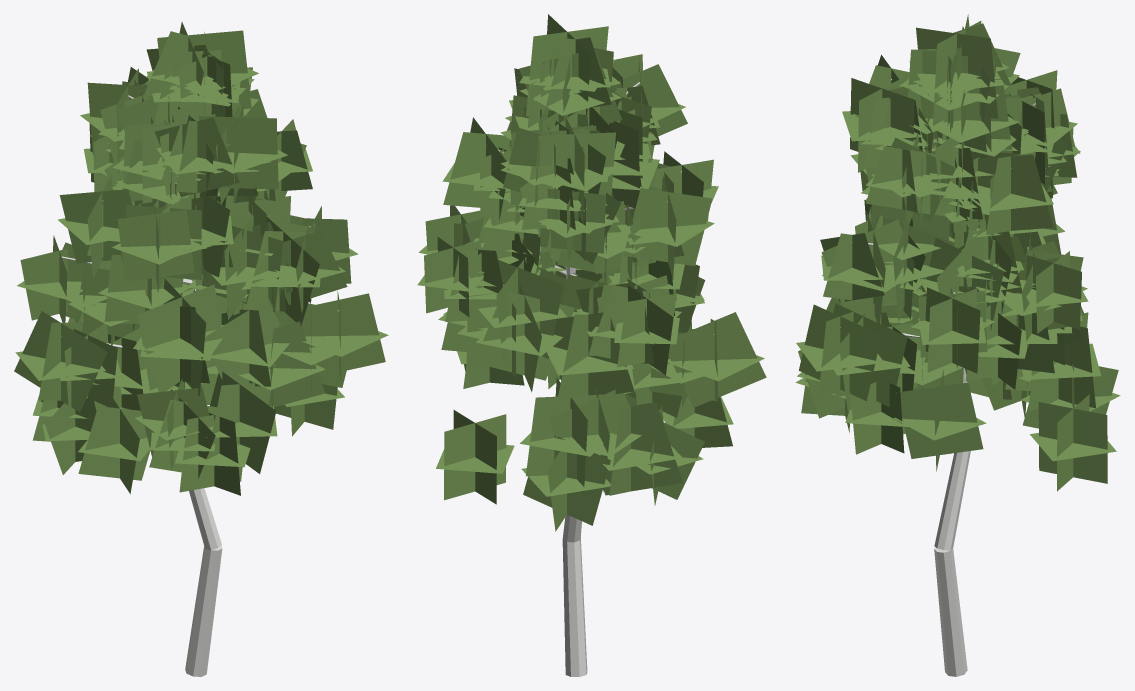
File: SM_Tree_Birch.fbx
3 views of the same model, side by side, from view 1: azimuth 30°, elevation 25°; view 2: azimuth 150°, elevation 25°; view 3: azimuth 270°, elevation 25° (orthographic).
Parts seen in each view (by area): view 1: SM_Tree_Birch; view 2: SM_Tree_Birch; view 3: SM_Tree_Birch.
Part boxes in pixels (x1,y1,x2,y2): SM_Tree_Birch: (14,22,388,676); SM_Tree_Birch: (417,14,766,676); SM_Tree_Birch: (795,14,1120,676).
Bounding box in the file's own units: 5.73 × 6.55 × 12.6.
